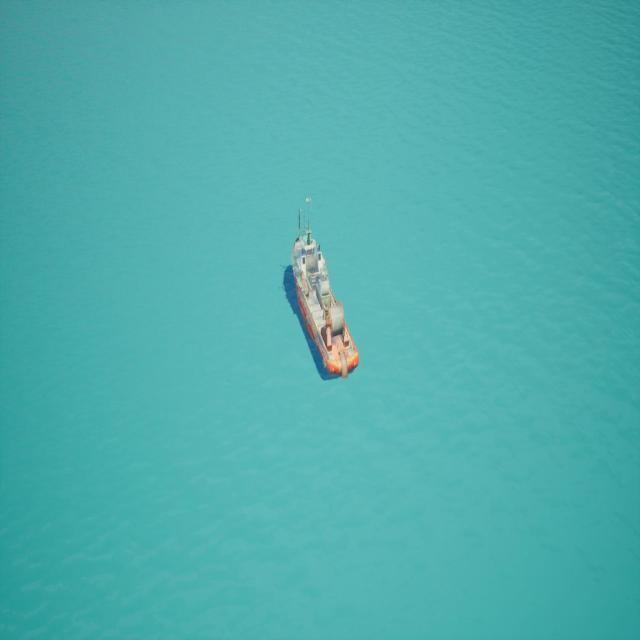tug boat: (274, 169, 367, 405)
